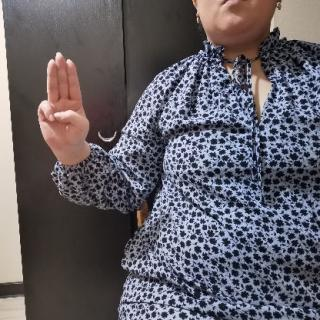THA: (32, 48, 94, 156)
